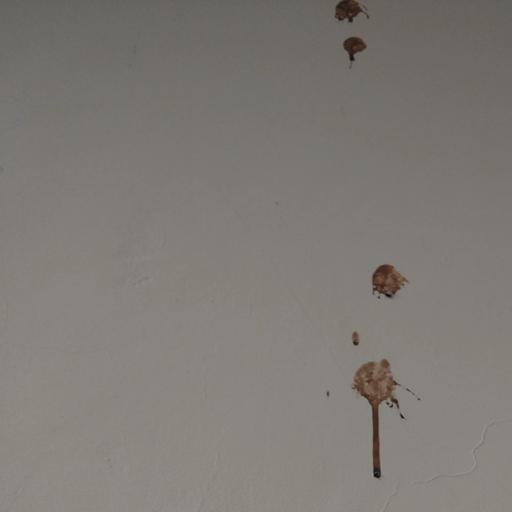stain: (311, 242, 454, 490), (315, 2, 388, 64)
